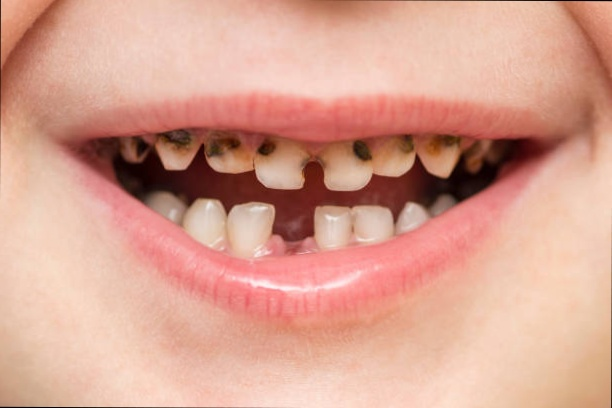Caries: (90, 134, 156, 163), (394, 130, 462, 157), (152, 128, 199, 152), (198, 133, 239, 160), (246, 136, 284, 163), (346, 138, 374, 159)
